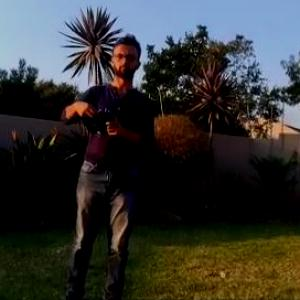follow: (51, 29, 159, 299)
